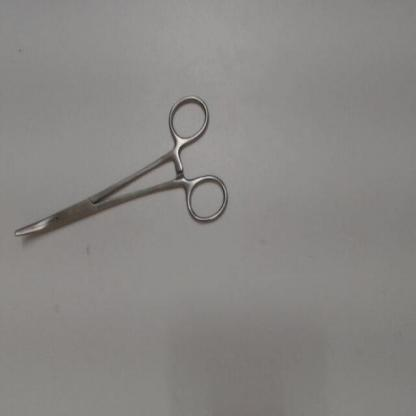Crile Artery Forceps: (8, 90, 233, 248)
